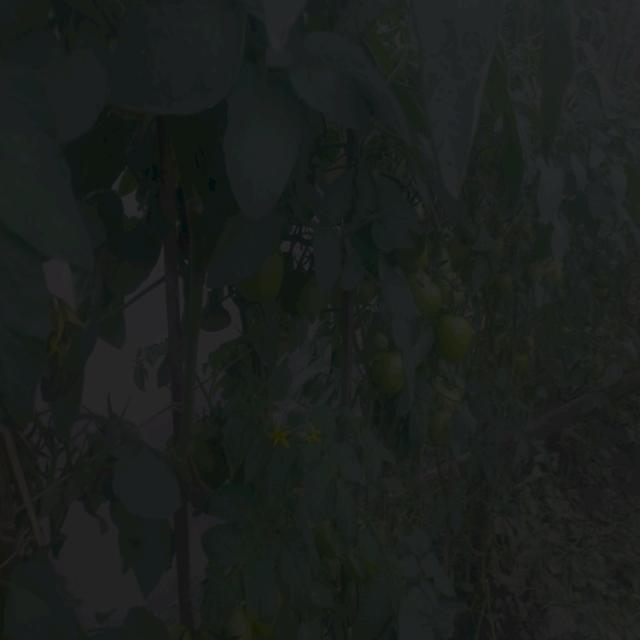tomato: (432, 313, 488, 368), (240, 255, 287, 301), (372, 353, 411, 404), (200, 613, 263, 640), (417, 270, 451, 318), (431, 411, 460, 454), (435, 373, 464, 411), (432, 243, 453, 282), (368, 330, 392, 354), (530, 259, 554, 282), (514, 345, 531, 372), (499, 272, 513, 302), (557, 323, 573, 342), (597, 285, 613, 302)
